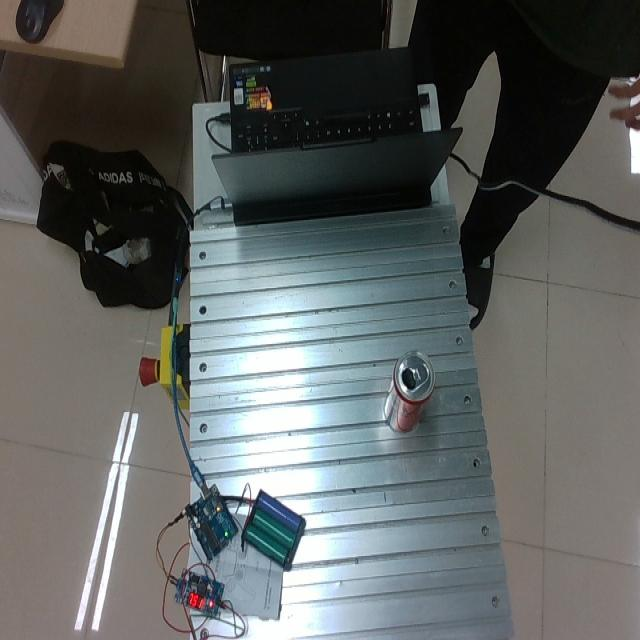coca: (385, 351, 435, 433)
